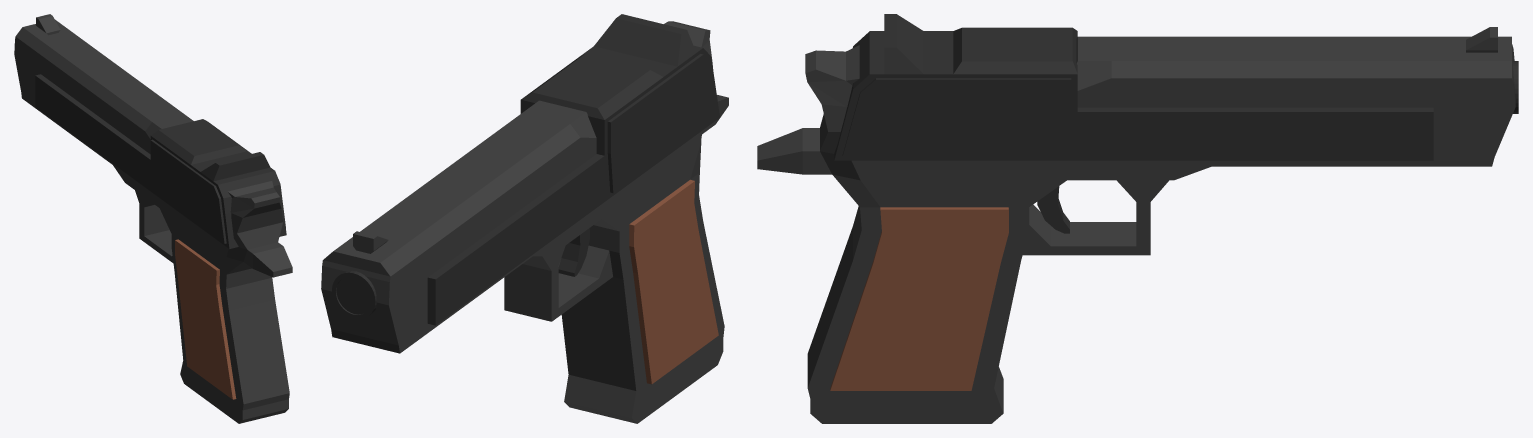
Rendered from deagle-B-pKwj9v.glb.
The picture shows the model from 3 angles, left to right: view 1: azimuth 30°, elevation 25°; view 2: azimuth 150°, elevation 25°; view 3: azimuth 270°, elevation 25°; orthographic projection. The views are drawn at different scales.
Visible parts, largest first — view 1: Base, top; view 2: Base, top, shooter, Trigger; view 3: Base, top, Trigger.
Boxes of the visible parts, box(x1,y1,x2,y2) form: Base: box(14, 14, 292, 423); top: box(35, 74, 286, 248); Base: box(321, 21, 728, 423); top: box(427, 14, 719, 325); shooter: box(332, 270, 376, 319); Trigger: box(558, 228, 589, 276); Base: box(757, 27, 1515, 423); top: box(834, 14, 1433, 160); Trigger: box(1037, 186, 1069, 233).
Size of the model in its own units: 0.0389 by 0.1471 by 0.27.
